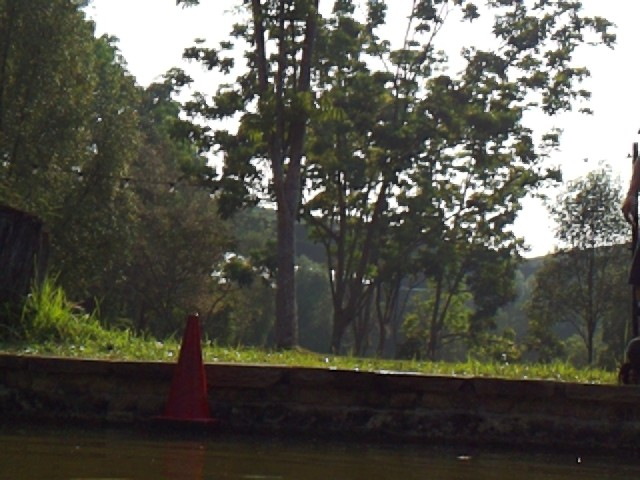obstacle: (153, 313, 218, 431)
